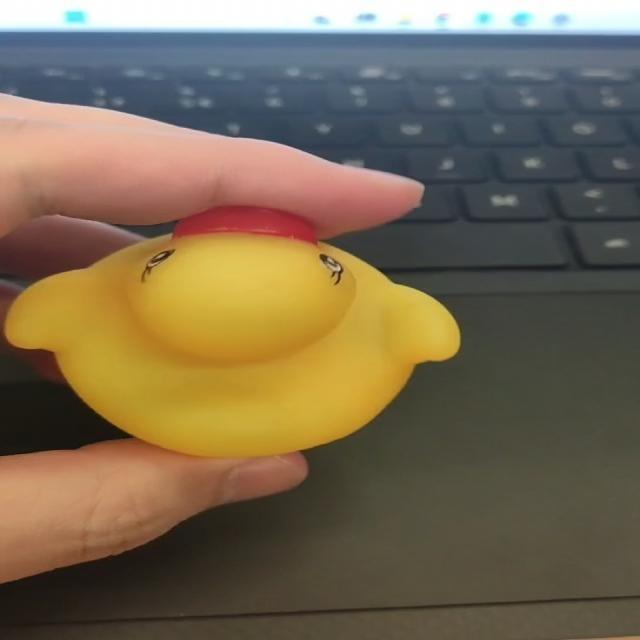rubber-duck: (5, 206, 458, 454)
